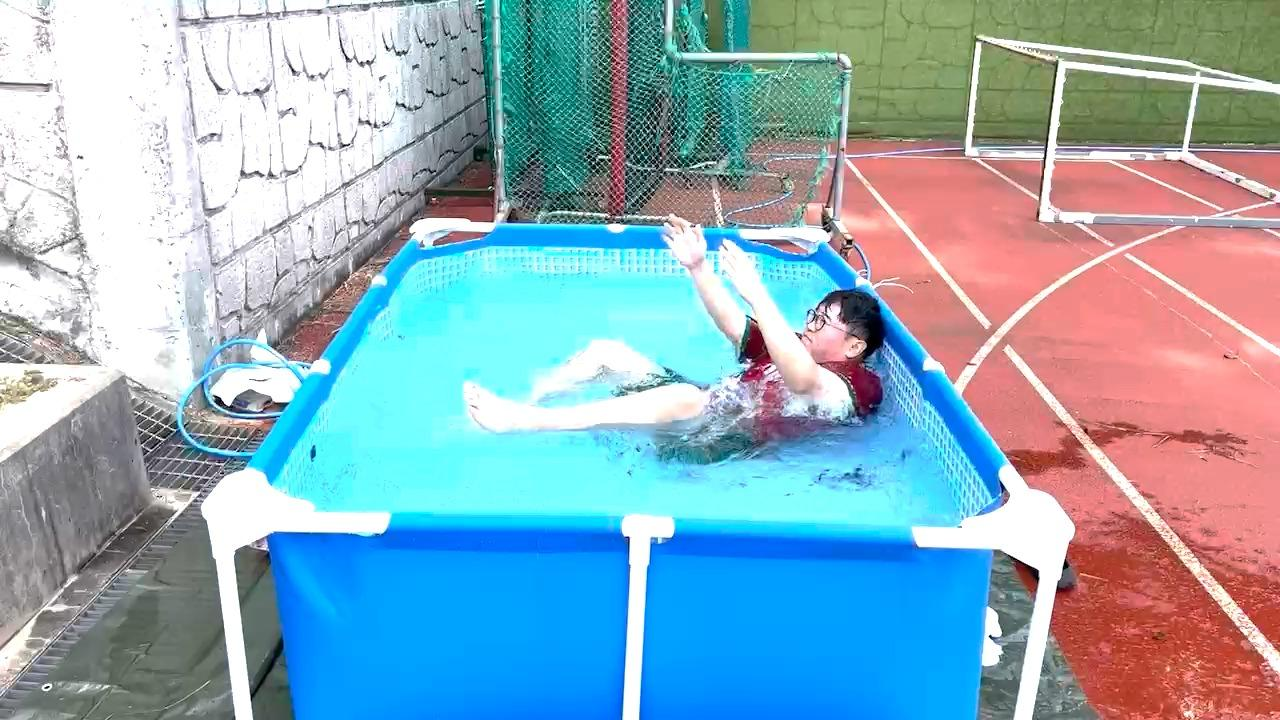Drowning: (497, 220, 887, 462)
